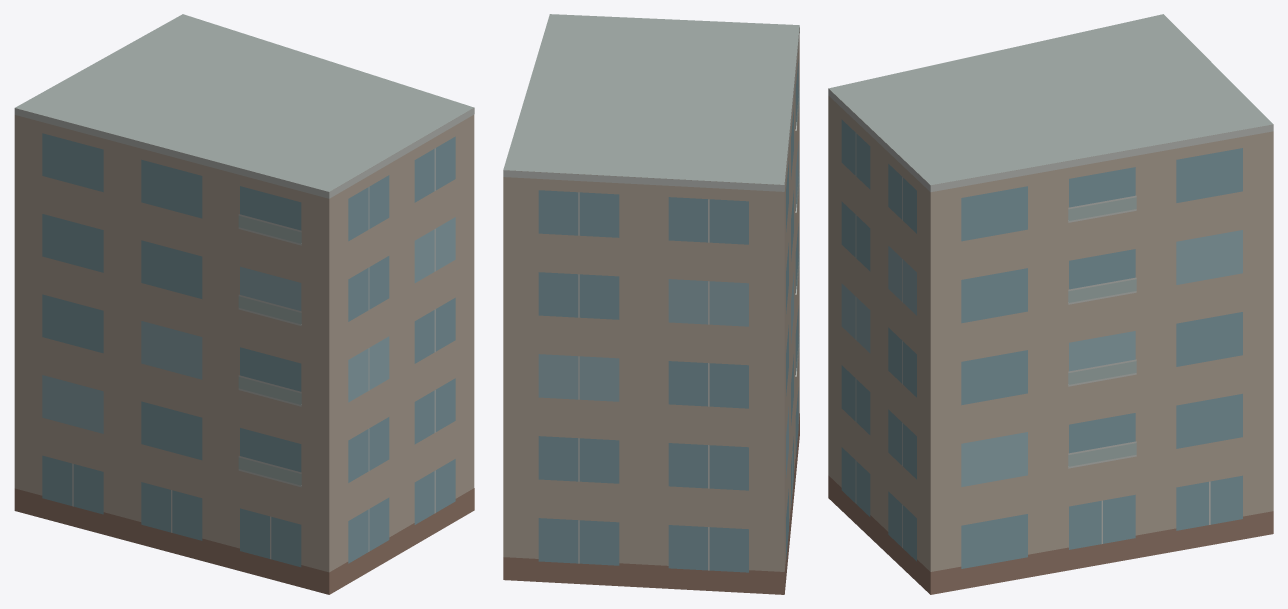
The model's file is survey-upis-32745224.glb.
The picture shows the model from 3 angles, left to right: view 1: azimuth 30°, elevation 25°; view 2: azimuth 150°, elevation 25°; view 3: azimuth 270°, elevation 25°; orthographic projection.
Visible parts, largest first — view 1: survey-upis-32745224.tmp; view 2: survey-upis-32745224.tmp; view 3: survey-upis-32745224.tmp.
Boxes of the visible parts, bbox=[...] form: survey-upis-32745224.tmp: bbox=[14, 14, 474, 594]; survey-upis-32745224.tmp: bbox=[503, 14, 799, 594]; survey-upis-32745224.tmp: bbox=[828, 14, 1273, 594].
Size of the model in its own units: 12.92 by 14.4 by 14.2.
